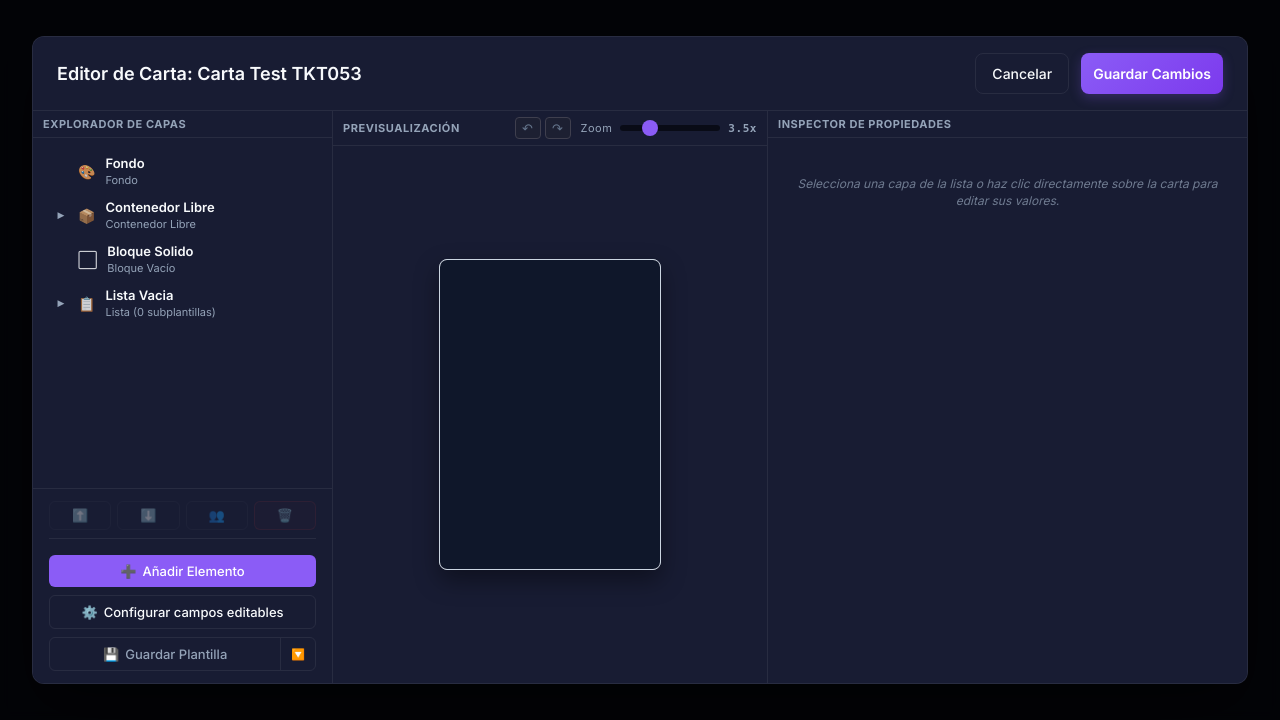
it: TKT-053: Integración de Dimensiones Automáticas y Listas en EditCardModal › muestra Ancho Auto y Alto Auto para contenedor con layout 'none'
Note: Seleccionar Contenedor Libre (layout 'none') en el panel de jerarquía
What coordinates should you click on to do the following:
click the 1st text "Contenedor Libre"
I would click on:
 (160, 207)
Its box is [106,199,215,215].
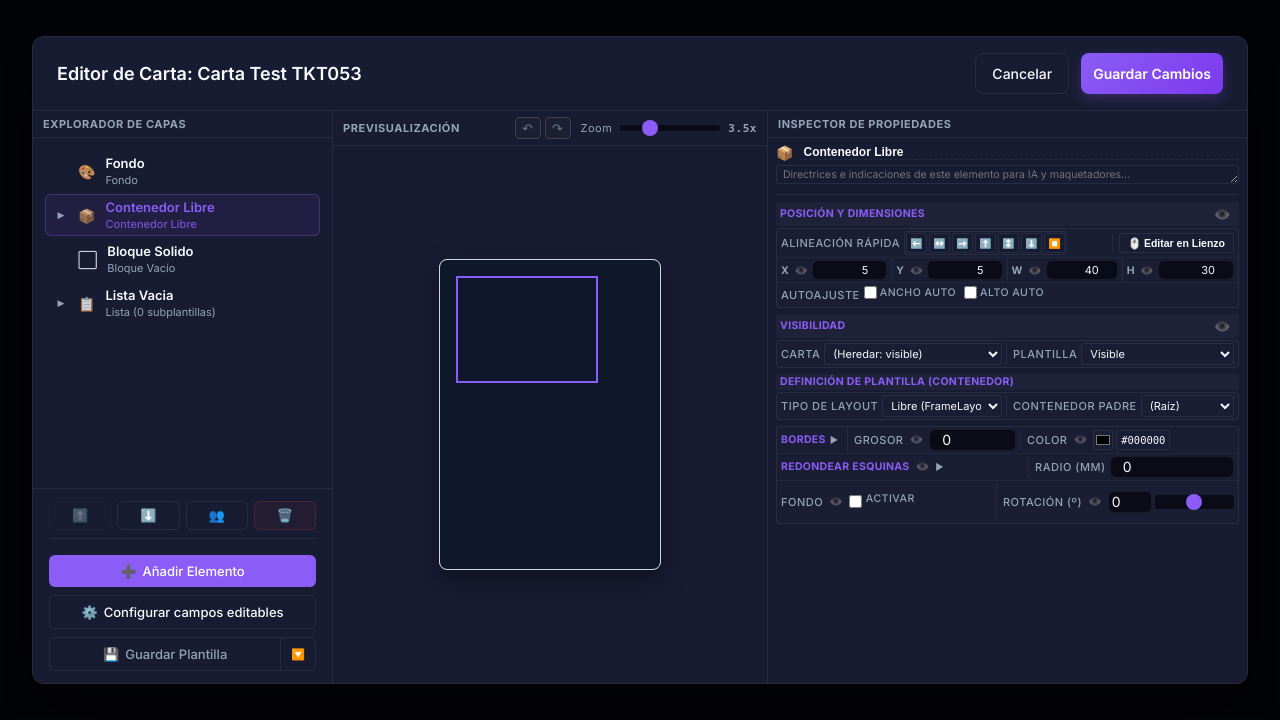
Expected: the text "Ancho Auto" is shown, [864,286,956,299]
Expected: the text "Alto Auto" is shown, [964,286,1044,299]
